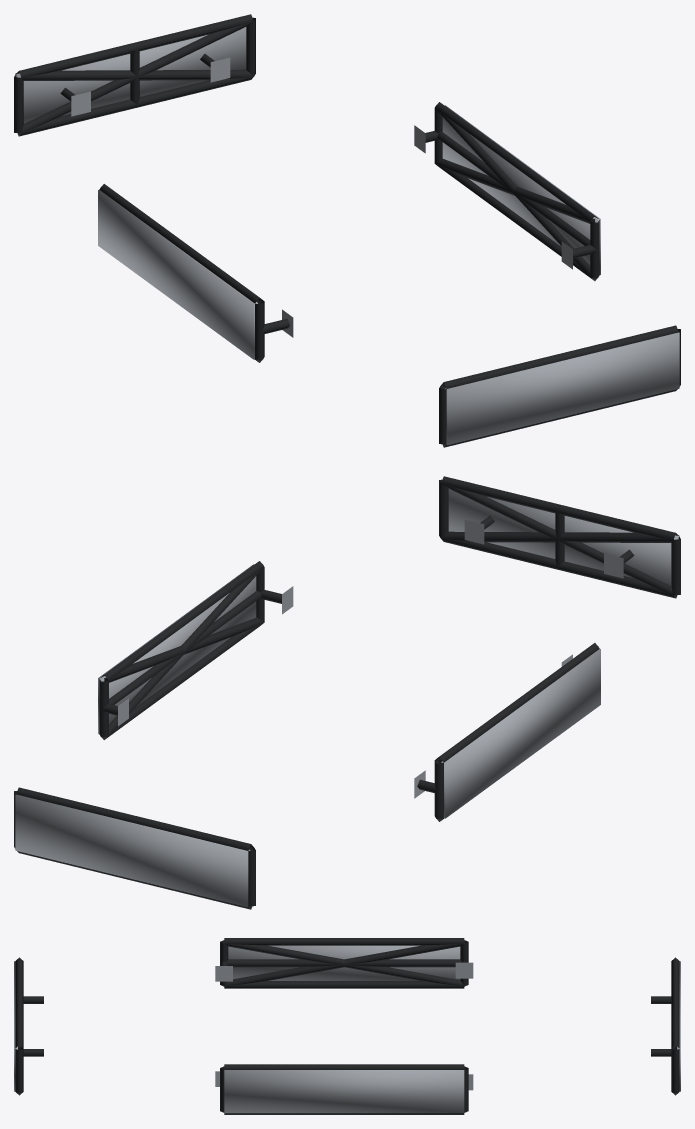
File: hozuki_lince_protecao.glb
3 views of the same model, one above another, from view 1: azimuth 30°, elevation 25°; view 2: azimuth 150°, elevation 25°; view 3: azimuth 270°, elevation 25° (orthographic). The views are drawn at different scales.
Parts seen in each view (by area): view 1: Protection_front_Level3_Details, Protection_left_Level3_Details, Protection_rear_Level1_Details, Protection_rear_Level3_Details, Protection_right_Level1_Details, Protection_rear_Level2_Details, Protection_right_Level2_Details, Protection_right_Level3_Details, Protection_front_Level1_Details, Protection_left_Level1_Details; view 2: Protection_rear_Level3_Details, Protection_left_Level3_Details, Protection_front_Level1_Details, Protection_front_Level3_Details, Protection_right_Level1_Details, Protection_front_Level2_Details, Protection_right_Level2_Details, Protection_right_Level3_Details, Protection_rear_Level1_Details, Protection_left_Level1_Details; view 3: Protection_right_Level3_Details, Protection_left_Level2_Details, Protection_left_Level1_Details, Protection_left_Level3_Details, Protection_right_Level1_Details, Protection_rear_Level1_Details, Protection_front_Level1_Details.
Part boxes in pixels (box(x1,y1,x2,y2)): Protection_front_Level3_Details: box(444, 332, 679, 445); Protection_left_Level3_Details: box(98, 190, 257, 359); Protection_rear_Level1_Details: box(14, 14, 255, 136); Protection_rear_Level3_Details: box(15, 27, 246, 123); Protection_right_Level1_Details: box(414, 102, 599, 280); Protection_rear_Level2_Details: box(16, 21, 253, 135); Protection_right_Level2_Details: box(435, 108, 598, 280); Protection_right_Level3_Details: box(442, 105, 600, 274); Protection_front_Level1_Details: box(439, 325, 680, 447); Protection_left_Level1_Details: box(99, 184, 293, 362); Protection_rear_Level3_Details: box(15, 794, 250, 907); Protection_left_Level3_Details: box(441, 649, 600, 818); Protection_front_Level1_Details: box(439, 476, 680, 598); Protection_front_Level3_Details: box(448, 489, 679, 585); Protection_right_Level1_Details: box(99, 561, 293, 739); Protection_front_Level2_Details: box(441, 483, 678, 597); Protection_right_Level2_Details: box(100, 567, 263, 739); Protection_right_Level3_Details: box(98, 564, 256, 733); Protection_rear_Level1_Details: box(14, 787, 255, 909); Protection_left_Level1_Details: box(414, 643, 599, 821); Protection_right_Level3_Details: box(224, 1070, 464, 1113); Protection_left_Level2_Details: box(223, 940, 464, 986); Protection_left_Level1_Details: box(215, 938, 473, 988); Protection_left_Level3_Details: box(228, 945, 460, 980); Protection_right_Level1_Details: box(215, 1064, 473, 1114); Protection_rear_Level1_Details: box(651, 957, 679, 1095); Protection_front_Level1_Details: box(15, 957, 43, 1095).
Bounding box in the file's own units: 1.96 × 0.354 × 4.22.
1 material, 1 textured.
